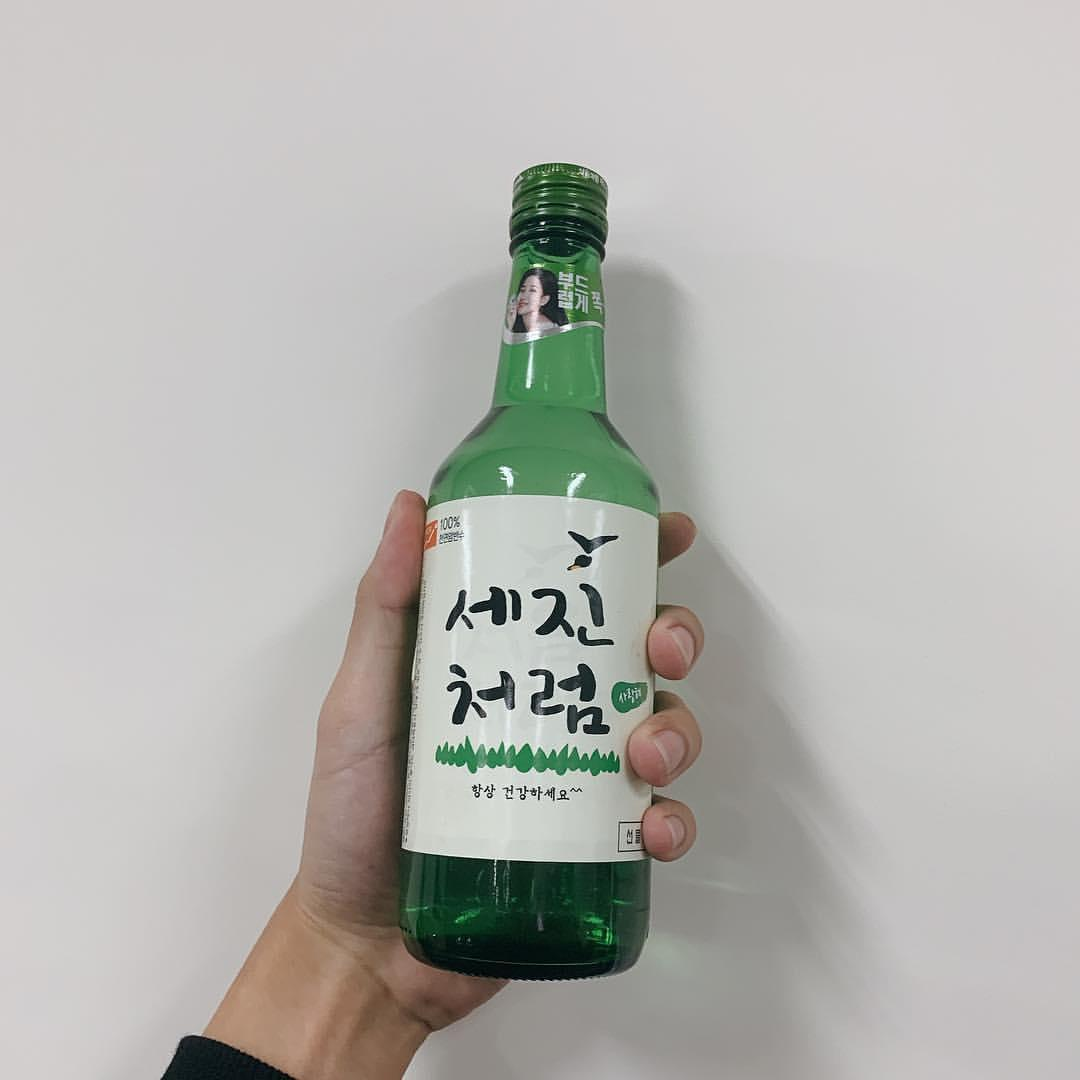soju: (397, 155, 669, 989)
